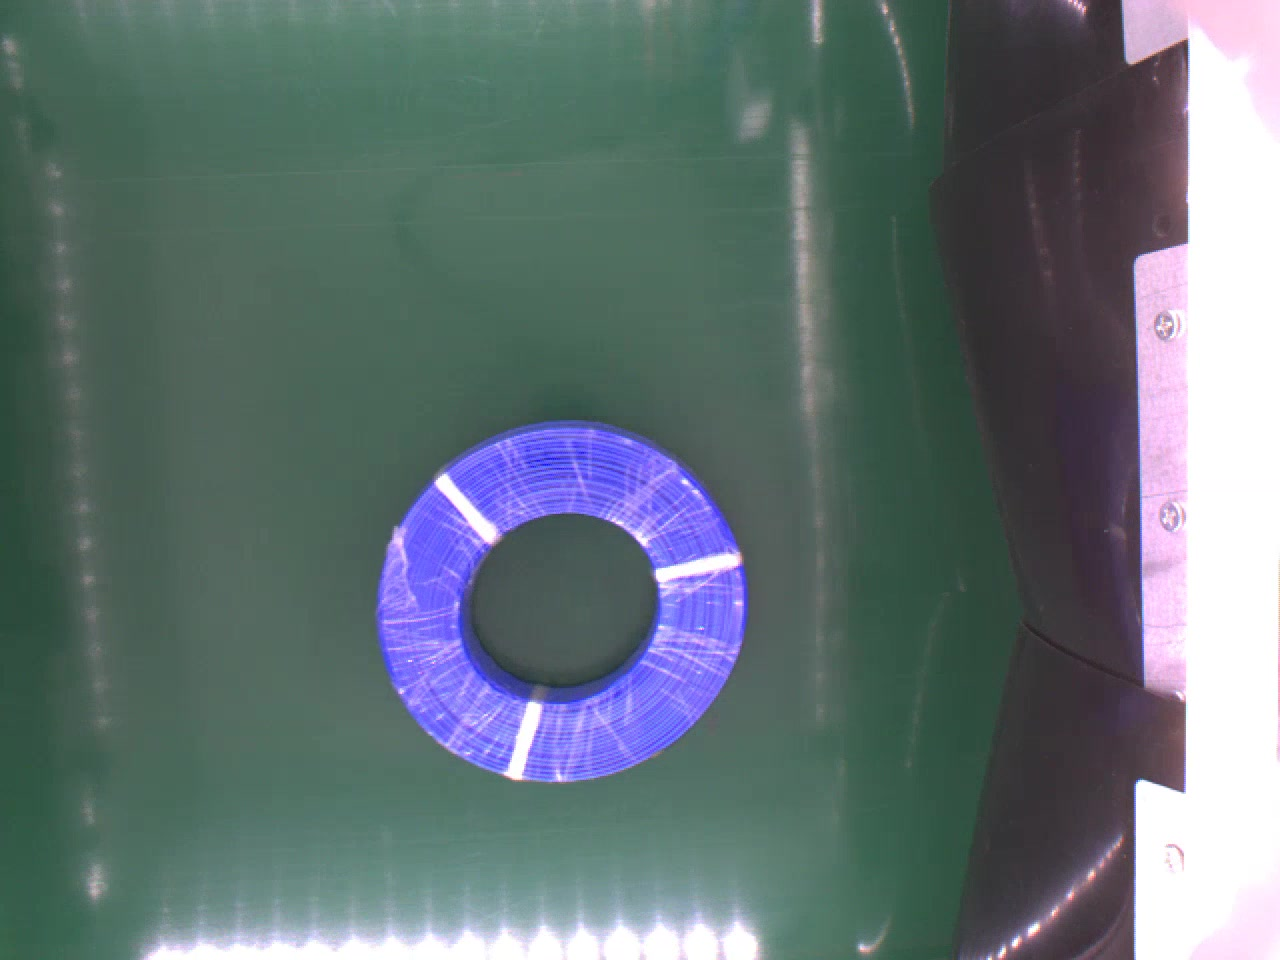blue: (373, 425, 749, 790)
